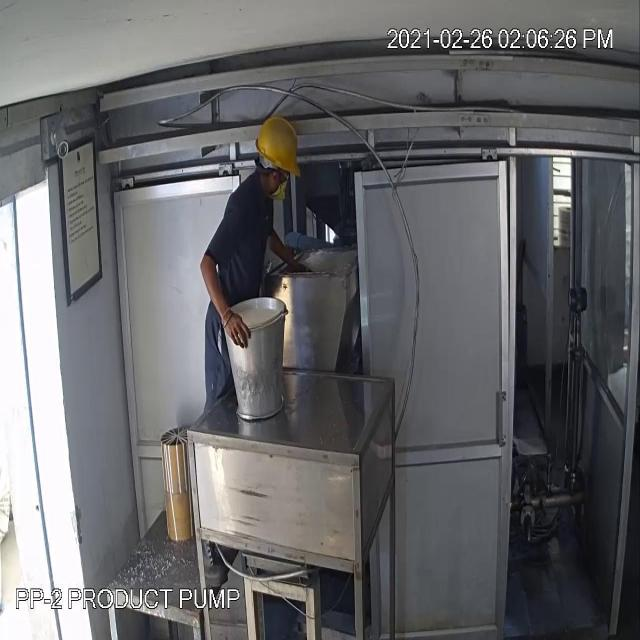helmet: (255, 106, 305, 189)
